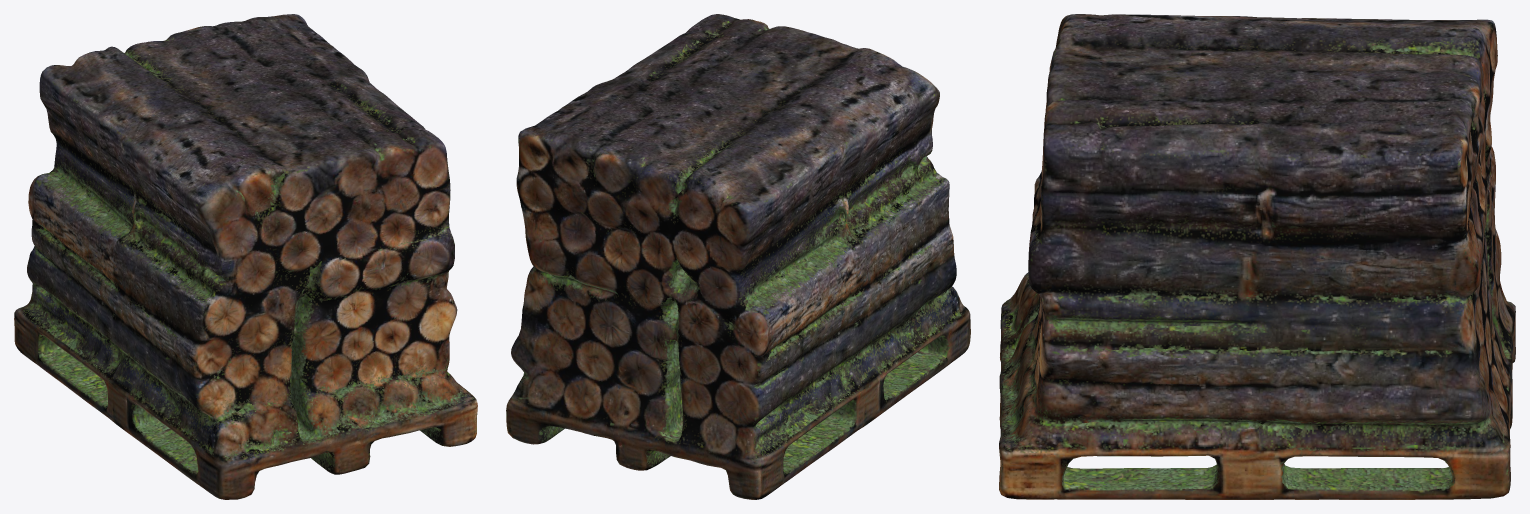
File: logs_on_pallet.glb
3 renders of one model, left to right at view 1: azimuth 30°, elevation 25°; view 2: azimuth 150°, elevation 25°; view 3: azimuth 270°, elevation 25°, orthographic. The views are drawn at different scales.
Parts seen in each view (by area): view 1: model; view 2: model; view 3: model.
Part boxes in pixels (box(x1,y1,x2,y2)): model: box(14, 14, 477, 499); model: box(506, 14, 970, 499); model: box(999, 14, 1515, 499).
Size of the model in its own units: 0.9945 by 1.05 by 1.35.
Materials: 1 (1 with a texture image).
